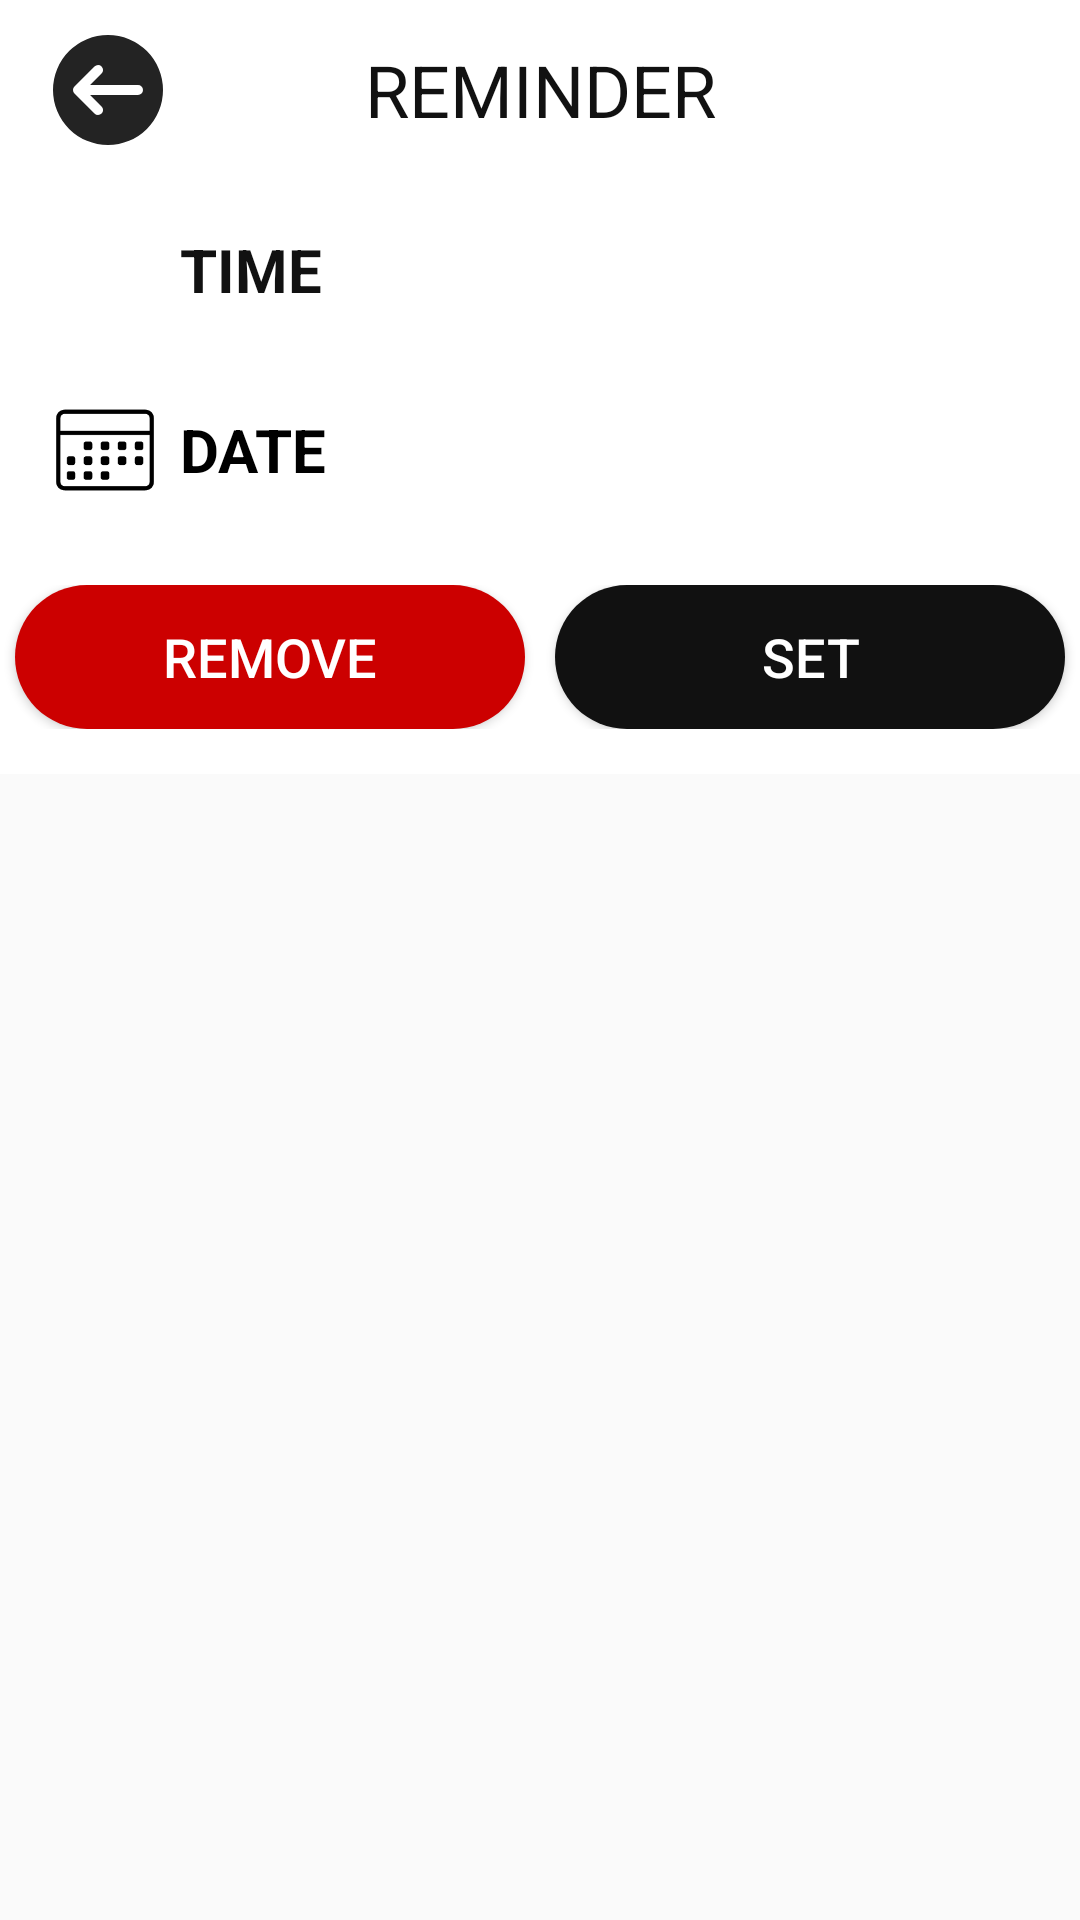

Icon click points for this 1080*1920 phone screenshot, format [x,y]:
back: [108,90]
calendar: [105,450]
